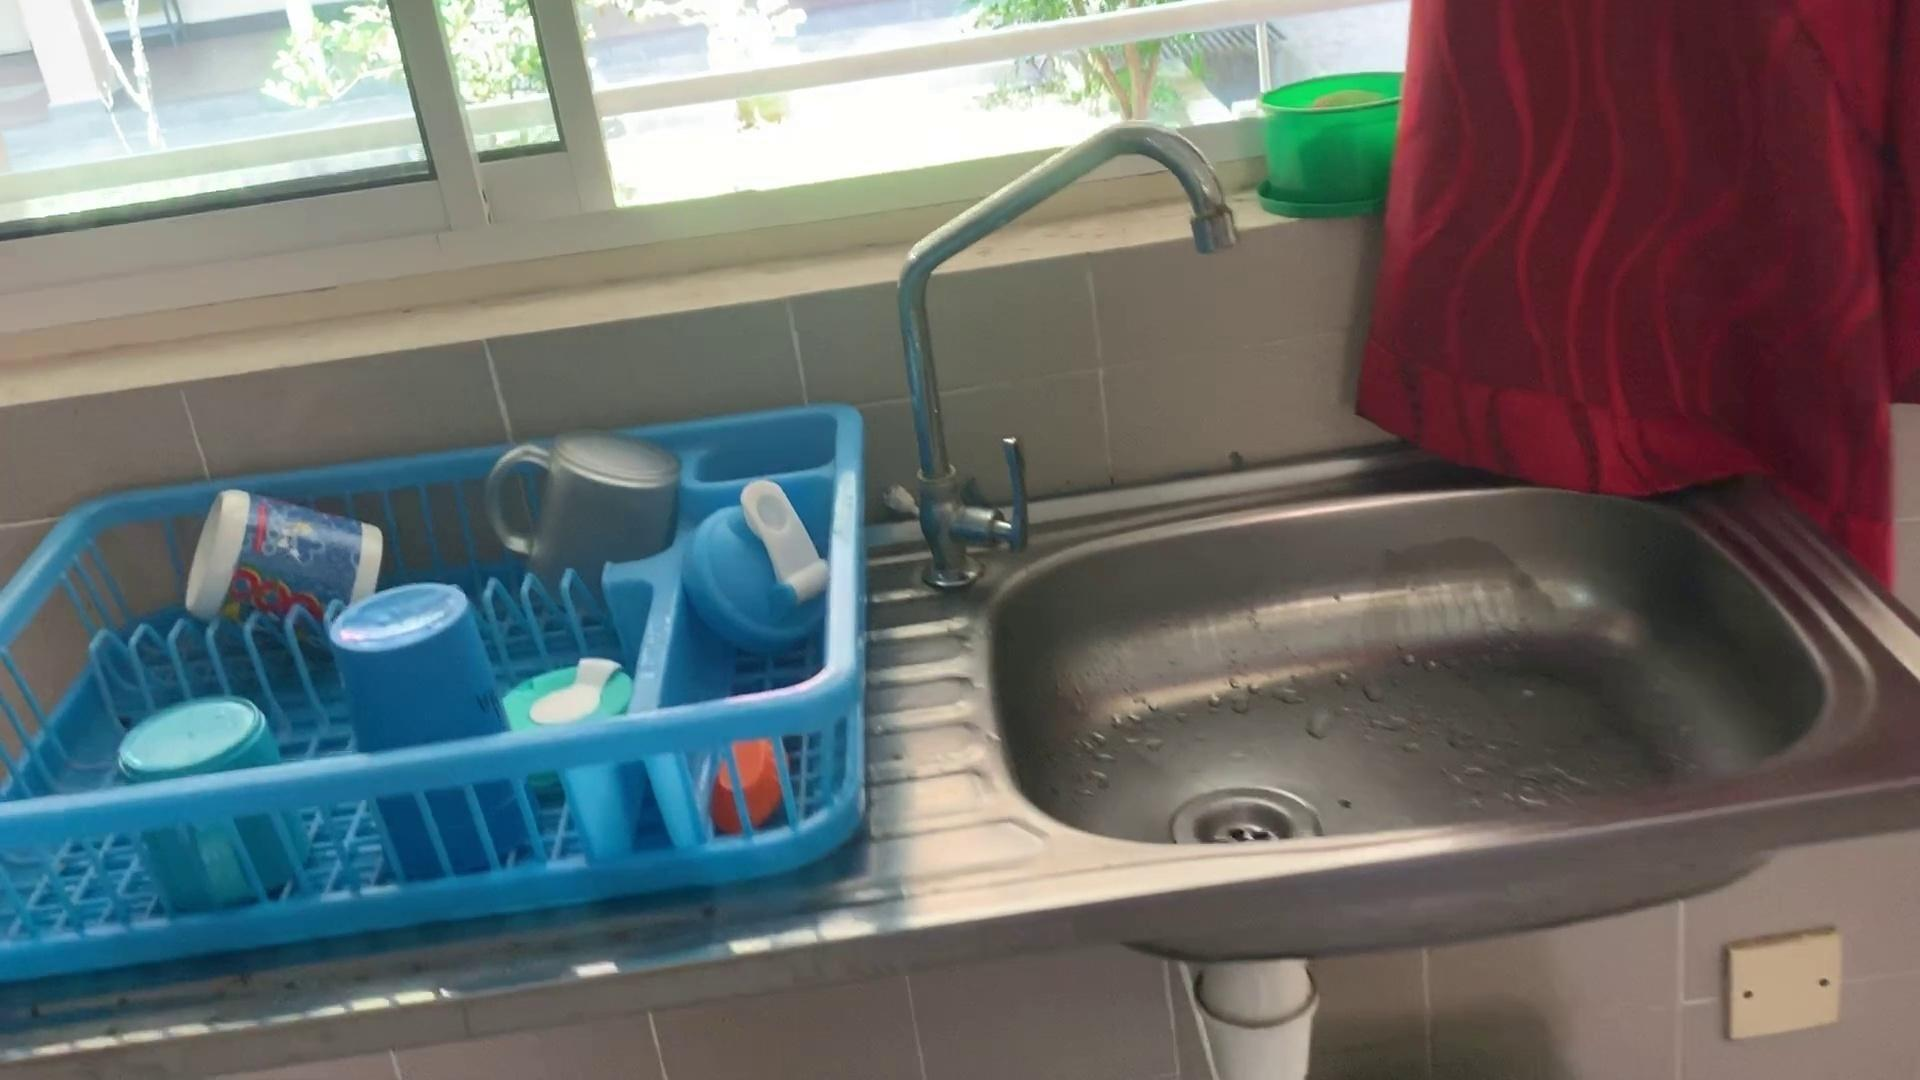Lavaplatos: (910, 95, 1890, 985)
